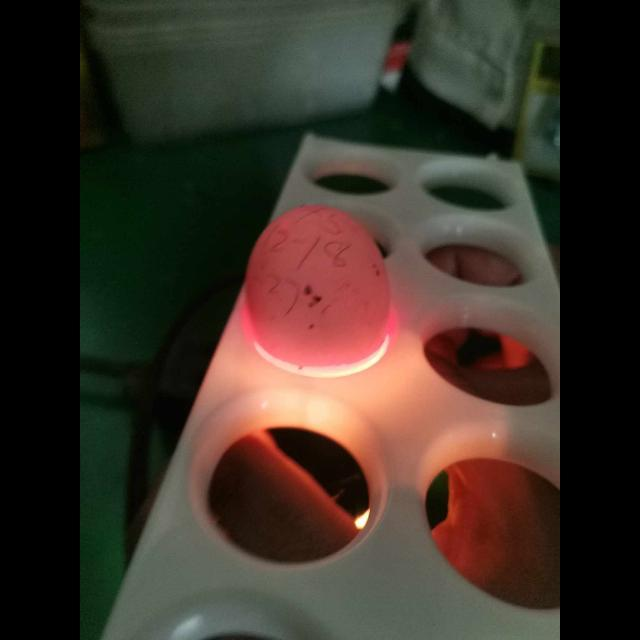Fertile: (248, 207, 404, 373)
